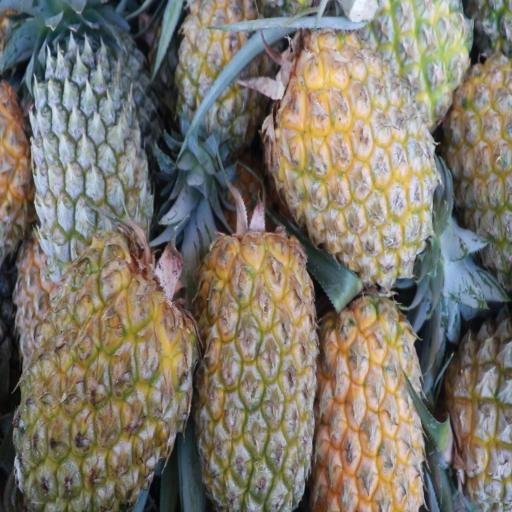------------------------------: (178, 0, 271, 149)
Pineapple - v8 v1: (10, 241, 195, 512), (279, 26, 433, 278), (198, 236, 316, 510), (317, 294, 419, 512), (378, 0, 467, 116)
